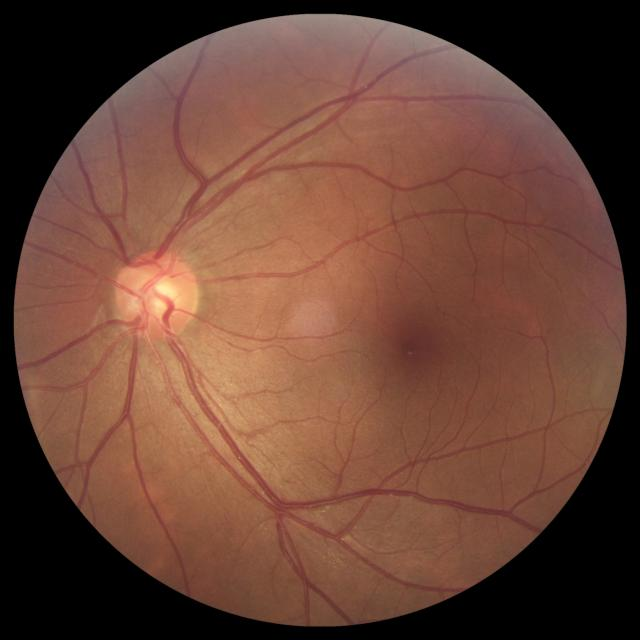OC: (143, 276, 179, 312)
OD: (111, 249, 199, 340)
